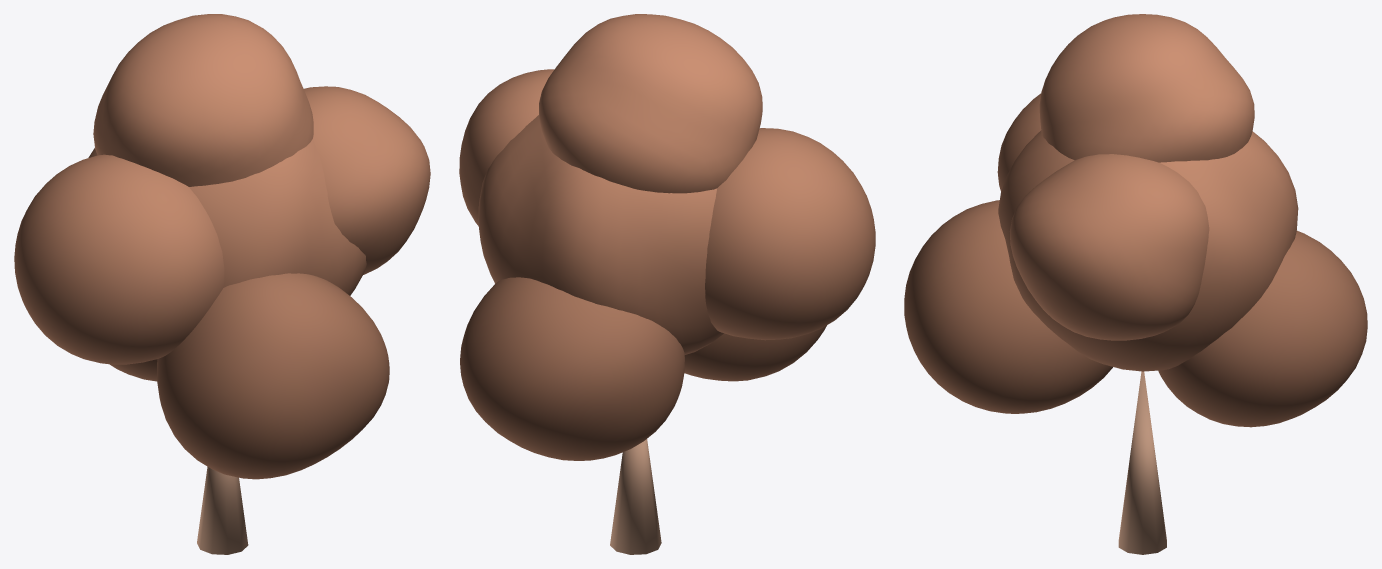
The model's file is tree_c_autumn.glb.
3 renders of one model, left to right at view 1: azimuth 30°, elevation 25°; view 2: azimuth 150°, elevation 25°; view 3: azimuth 270°, elevation 25°, orthographic. The views are drawn at different scales.
Visible parts, largest first — view 1: crown, trunk; view 2: crown, trunk; view 3: crown, trunk.
Boxes of the visible parts, x1,y1,x2,y2 form: crown: [14, 14, 430, 479]; trunk: [197, 466, 248, 554]; crown: [459, 14, 875, 460]; trunk: [610, 439, 661, 554]; crown: [904, 14, 1367, 427]; trunk: [1118, 371, 1166, 554].
Size of the model in its own units: 4.78 by 6.16 by 5.05.
